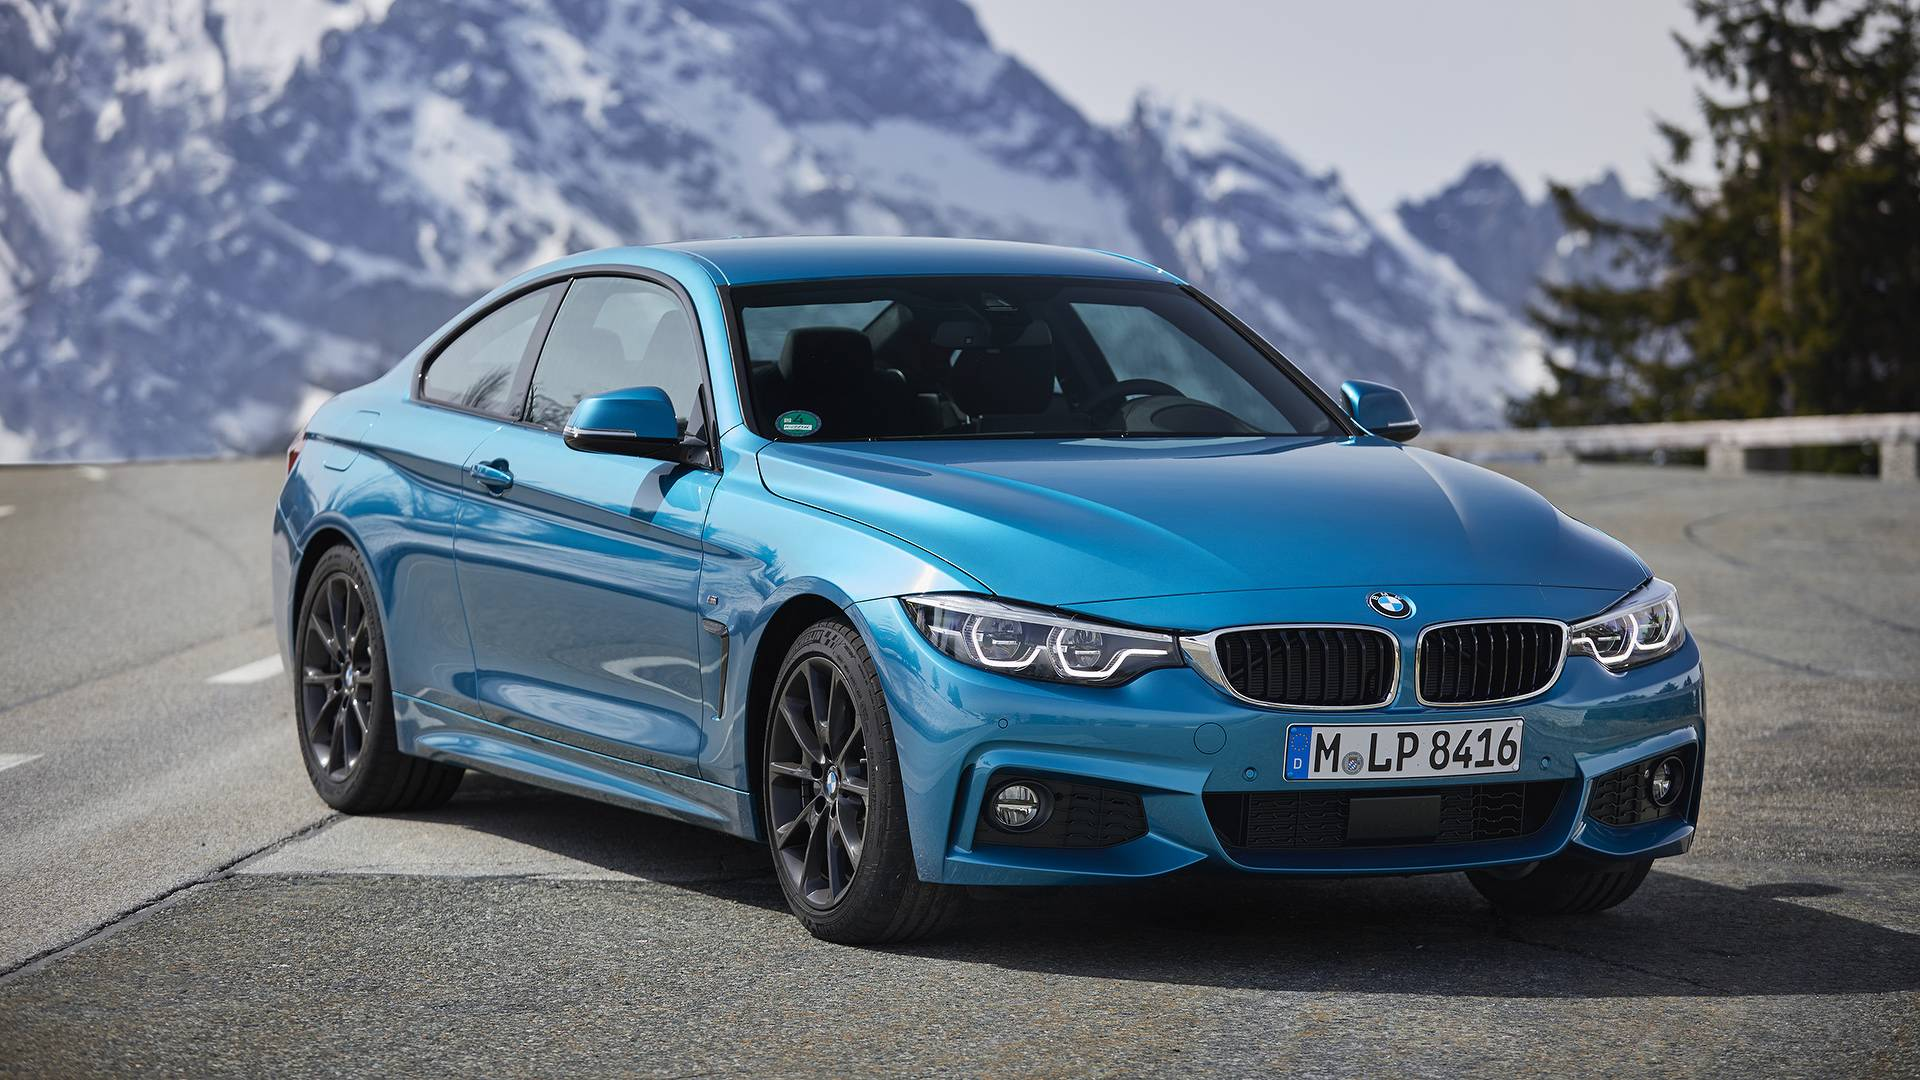bmw: (255, 220, 1718, 955)
